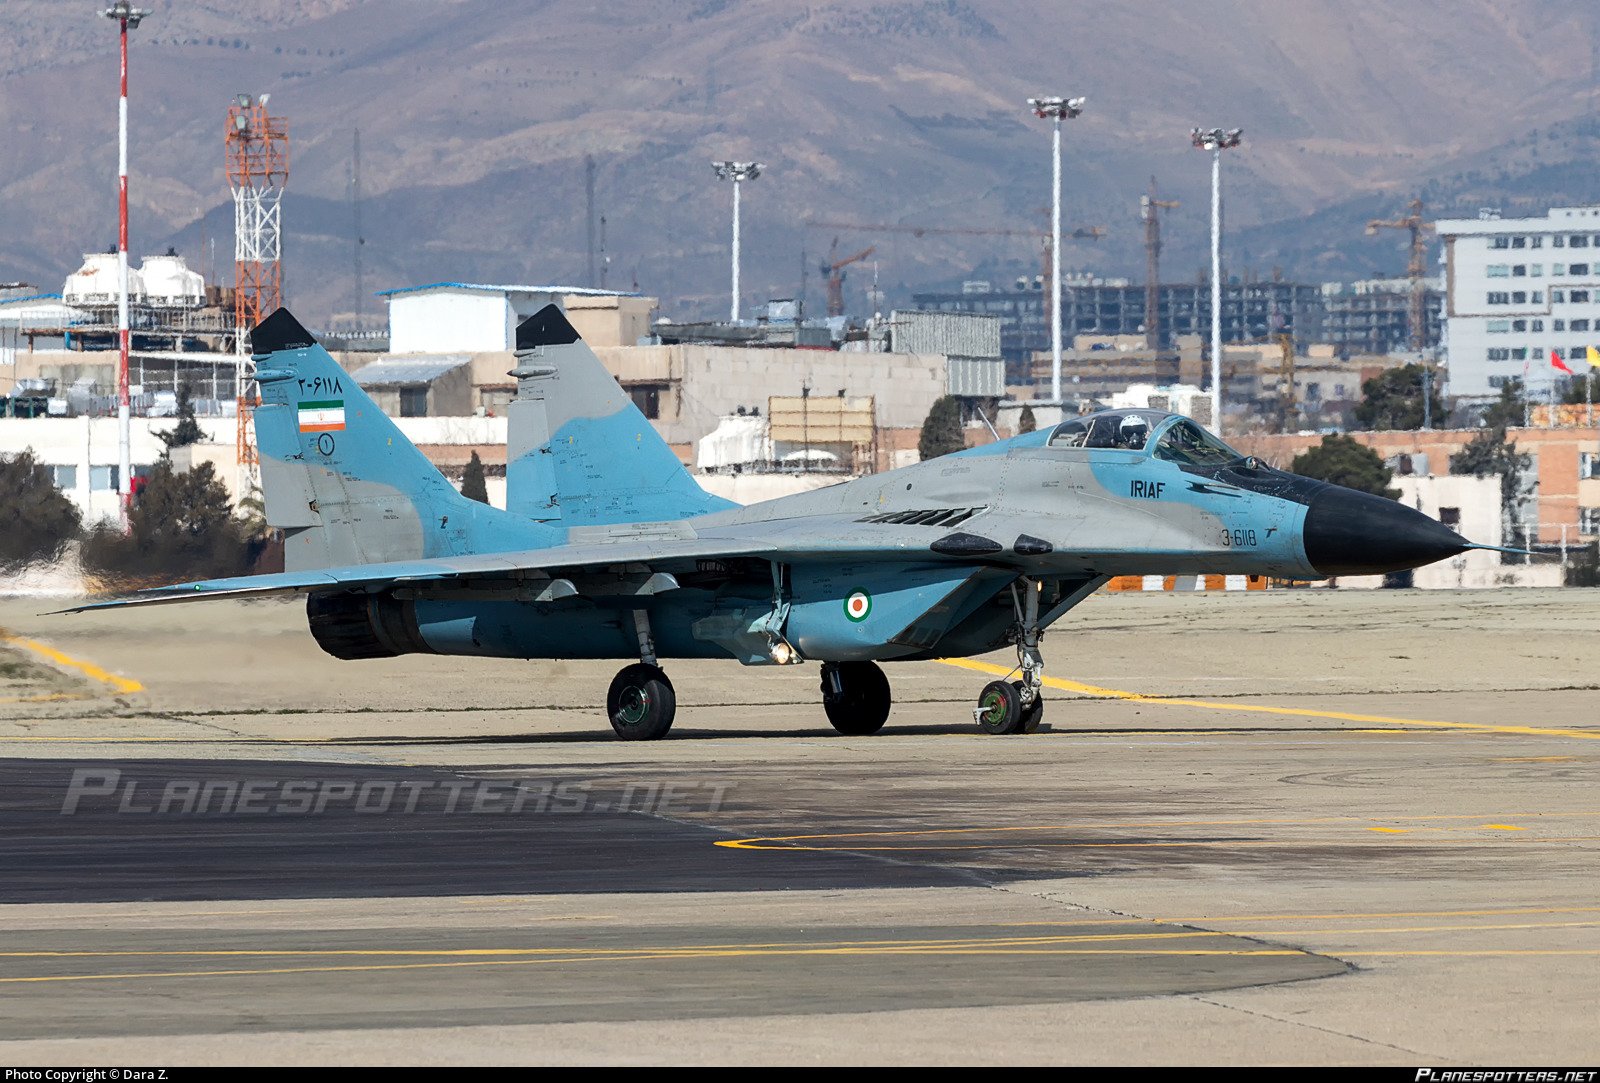Iran: (291, 399, 353, 430)
Mig-29: (156, 265, 1483, 746)
